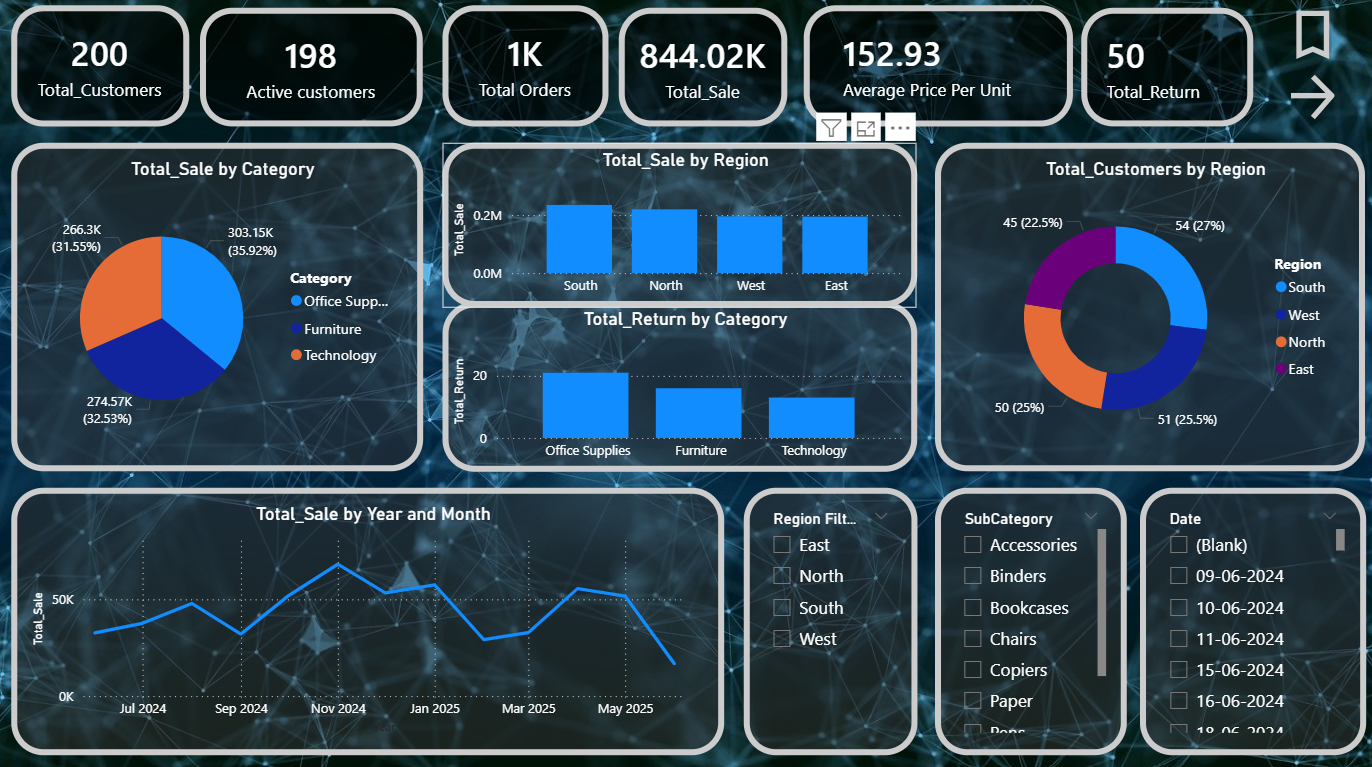

Layout of this report page (visuals, bound fields, positions):
{"tool":"powerbi","page":{"name":"Main ","canvas":[1280,720],"ordinal":0},"visuals":[{"type":"cardVisual","fields":{"Data":["Customer_Dim.Total_Customers"]},"box":[10,5.7,165.7,112.9],"z":0},{"type":"cardVisual","fields":{"Data":["Sales_Fact.Active customers"]},"box":[185.7,8.6,207.1,110],"z":1000},{"type":"cardVisual","fields":{"Data":["Sales_Fact.Total_Sale"]},"box":[575.7,8.6,157.1,110],"z":2000},{"type":"cardVisual","fields":{"Data":["Sales_Fact.Total Orders"]},"box":[411.4,5.7,154.3,112.9],"z":3000},{"type":"cardVisual","fields":{"Data":["Sales_Fact.Average Price Per Unit"]},"box":[747.1,5.7,250,112.9],"z":4000},{"type":"cardVisual","fields":{"Data":["Returns_Fact.Total_Return"]},"box":[1005.7,8.6,160,110],"z":5000},{"type":"pieChart","fields":{"Category":["Product_Dim.Category"],"Y":["Sales_Fact.Total_Sale"]},"box":[10,134.3,382.9,305.7],"z":6000},{"type":"columnChart","fields":{"Category":["Product_Dim.Category"],"Y":["Returns_Fact.Total_Return"]},"box":[411.4,281.4,441.4,158.6],"z":7000},{"type":"lineChart","fields":{"Y":["Sales_Fact.Total_Sale"],"Category":["Date_Dim.Date.Variation.Date Hierarchy.Year","Date_Dim.Date.Variation.Date Hierarchy.Month"]},"box":[10,454.3,662.9,248.6],"z":8000},{"type":"donutChart","fields":{"Category":["Customer_Dim.Region"],"Y":["Customer_Dim.Total_Customers"]},"box":[870,134.3,400,305.7],"z":9000},{"type":"columnChart","fields":{"Category":["Customer_Dim.Region"],"Y":["Sales_Fact.Total_Sale"]},"box":[411.4,134.3,441.4,152.9],"z":10000},{"type":"slicer","fields":{"Values":["Customer_Dim.Region"]},"box":[691.4,454.3,161.4,248.6],"z":11000},{"type":"slicer","fields":{"Values":["Product_Dim.SubCategory"]},"box":[870,454.3,178.6,248.6],"z":12000},{"type":"slicer","fields":{"Values":["Date_Dim.Date"]},"box":[1060,454.3,210,248.6],"z":13000},{"type":"actionButton","box":[1194.3,5.7,62.9,54.3],"z":14000},{"type":"actionButton","box":[1194.3,64.3,51.4,54.3],"z":15000}]}

Visuals, with their boxes in screenshot pixels (x1, y1, x2, y2), scaled from the page's 1280x720 canvas onto the 1372x767 screenshot:
cardVisual - Customer_Dim.Total_Customers: {"left": 11, "top": 6, "right": 188, "bottom": 126}
cardVisual - Sales_Fact.Active customers: {"left": 199, "top": 9, "right": 421, "bottom": 126}
cardVisual - Sales_Fact.Total_Sale: {"left": 617, "top": 9, "right": 785, "bottom": 126}
cardVisual - Sales_Fact.Total Orders: {"left": 441, "top": 6, "right": 606, "bottom": 126}
cardVisual - Sales_Fact.Average Price Per Unit: {"left": 801, "top": 6, "right": 1069, "bottom": 126}
cardVisual - Returns_Fact.Total_Return: {"left": 1078, "top": 9, "right": 1249, "bottom": 126}
pieChart - Product_Dim.Category x Sales_Fact.Total_Sale: {"left": 11, "top": 143, "right": 421, "bottom": 469}
columnChart - Product_Dim.Category x Returns_Fact.Total_Return: {"left": 441, "top": 300, "right": 914, "bottom": 469}
lineChart - Sales_Fact.Total_Sale x Date_Dim.Date.Variation.Date Hierarchy.Year: {"left": 11, "top": 484, "right": 721, "bottom": 749}
donutChart - Customer_Dim.Region x Customer_Dim.Total_Customers: {"left": 933, "top": 143, "right": 1361, "bottom": 469}
columnChart - Customer_Dim.Region x Sales_Fact.Total_Sale: {"left": 441, "top": 143, "right": 914, "bottom": 306}
slicer - Customer_Dim.Region: {"left": 741, "top": 484, "right": 914, "bottom": 749}
slicer - Product_Dim.SubCategory: {"left": 933, "top": 484, "right": 1124, "bottom": 749}
slicer - Date_Dim.Date: {"left": 1136, "top": 484, "right": 1361, "bottom": 749}
actionButton: {"left": 1280, "top": 6, "right": 1348, "bottom": 64}
actionButton: {"left": 1280, "top": 68, "right": 1335, "bottom": 126}
